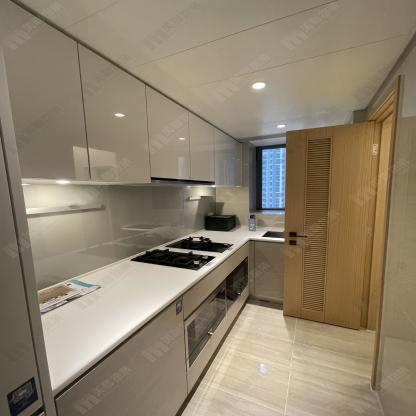Cupboard: (2, 0, 246, 187), (0, 0, 151, 183), (52, 299, 193, 416)
Exhaust Hood: (153, 177, 216, 187), (151, 177, 215, 186)
Oven: (182, 256, 248, 369), (186, 260, 246, 365)
Sink: (261, 231, 289, 241)
Stove: (119, 247, 227, 275), (158, 234, 248, 254), (134, 249, 211, 271), (166, 238, 229, 252)
